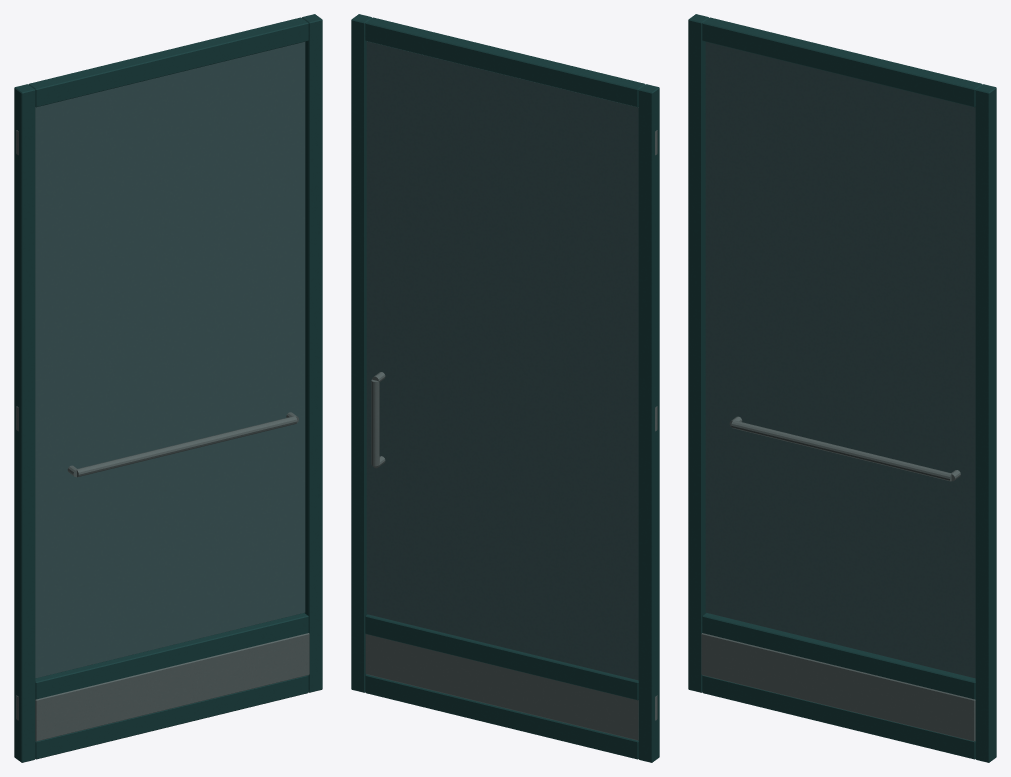
File: storefront_glass_door.glb
The picture shows the model from 3 angles, left to right: view 1: azimuth 30°, elevation 25°; view 2: azimuth 150°, elevation 25°; view 3: azimuth 330°, elevation 25°; orthographic projection.
Visible parts, largest first — view 1: storefront_glass_door; view 2: storefront_glass_door; view 3: storefront_glass_door.
Boxes of the visible parts, <box> form: storefront_glass_door: <box>14,14,322,762</box>; storefront_glass_door: <box>351,14,659,762</box>; storefront_glass_door: <box>688,14,996,762</box>.
Bounding box in the file's own units: 1.2 × 2.55 × 0.153.
3 materials, 3 textured.
